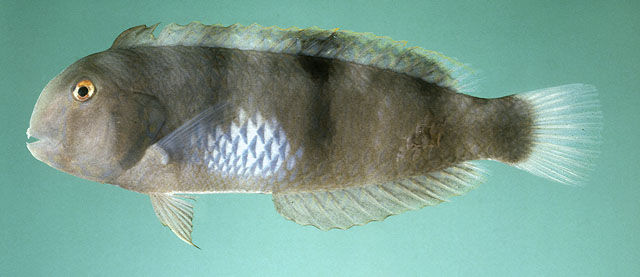fish: (25, 22, 602, 252)
